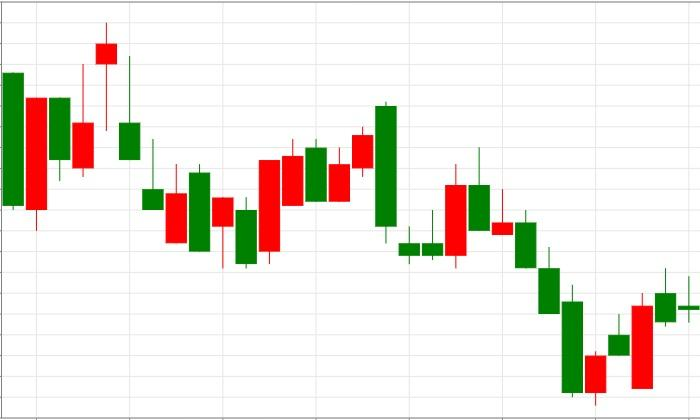bearish_engulfing_fall: (235, 101, 397, 268)
bullish_engulfing_rise: (375, 101, 467, 268)
inverse_hammer_rise: (95, 21, 165, 211)
